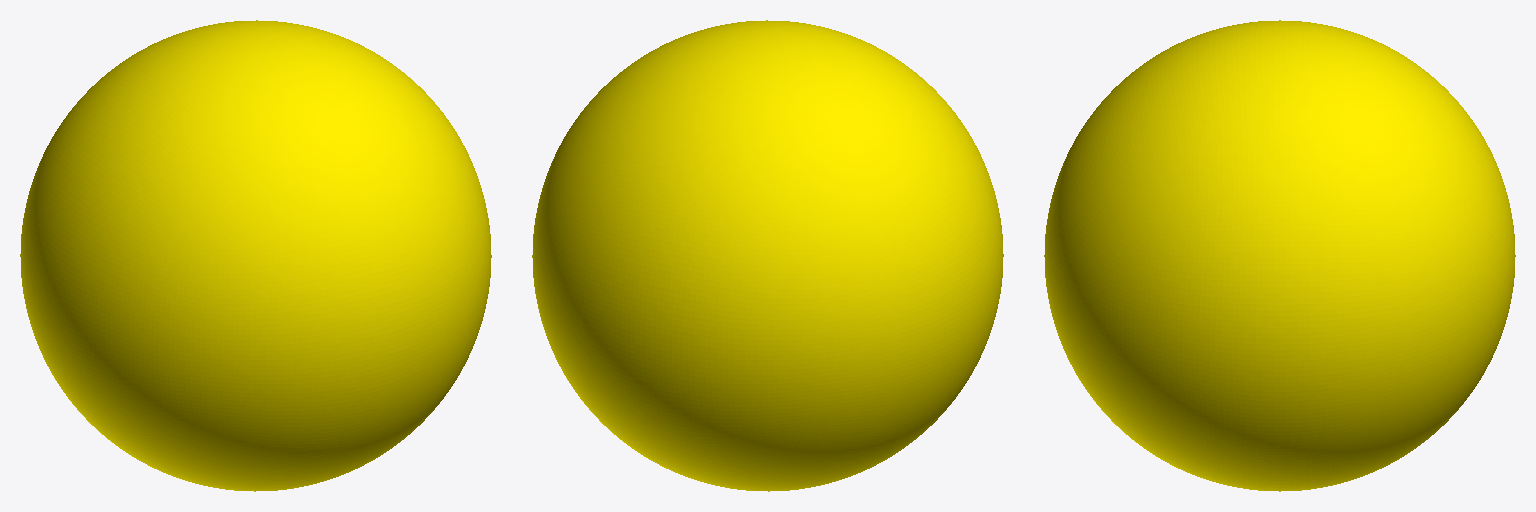
Rendered from Sun.obj.
3 views of the same model, side by side, from view 1: azimuth 30°, elevation 25°; view 2: azimuth 150°, elevation 25°; view 3: azimuth 270°, elevation 25° (orthographic).
Visible parts, largest first — view 1: Quad_Sphere; view 2: Quad_Sphere; view 3: Quad_Sphere.
Part boxes in pixels (x1,y1,x2,y2): Quad_Sphere: (20,20,491,491); Quad_Sphere: (532,20,1003,491); Quad_Sphere: (1044,20,1515,491).
Bounding box in the file's own units: 2.57 × 2.57 × 2.57.